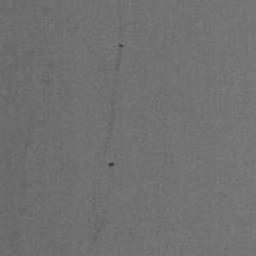Inclusion: (114, 43, 124, 71), (92, 226, 103, 243), (108, 109, 115, 134)
